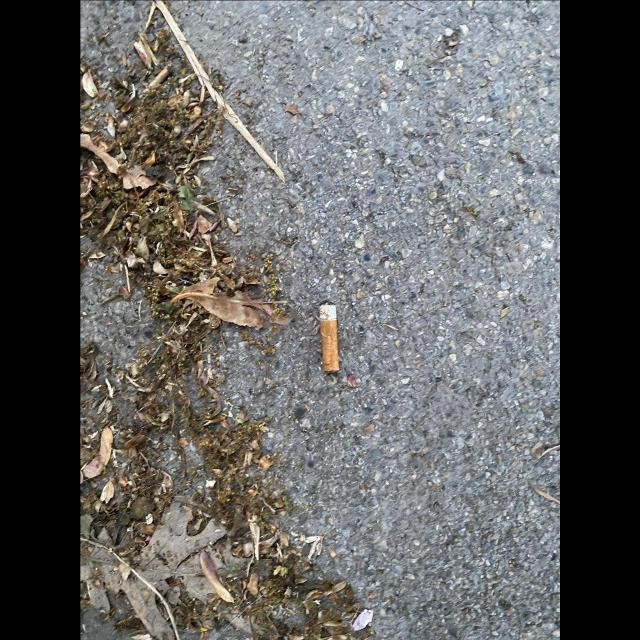cigarette: (318, 299, 339, 372)
